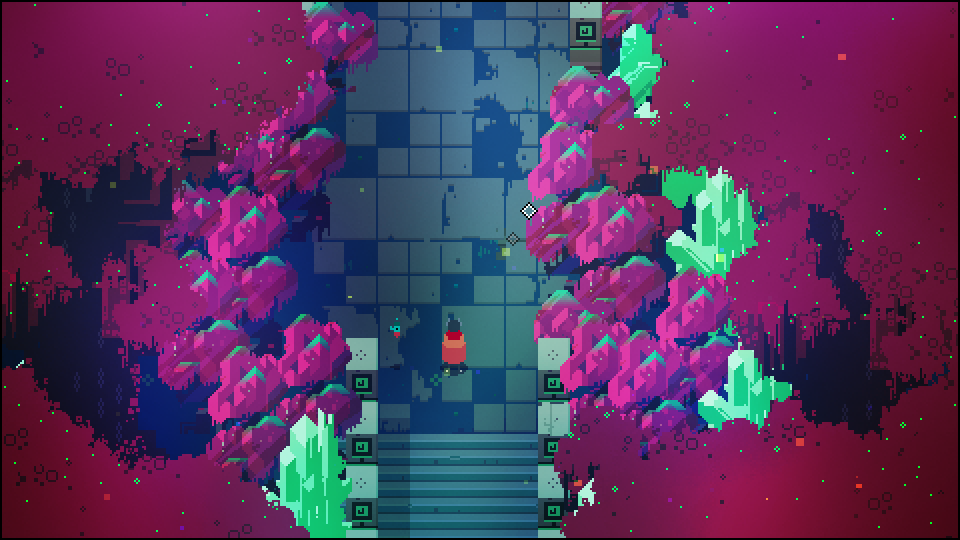player: (441, 322, 466, 374)
